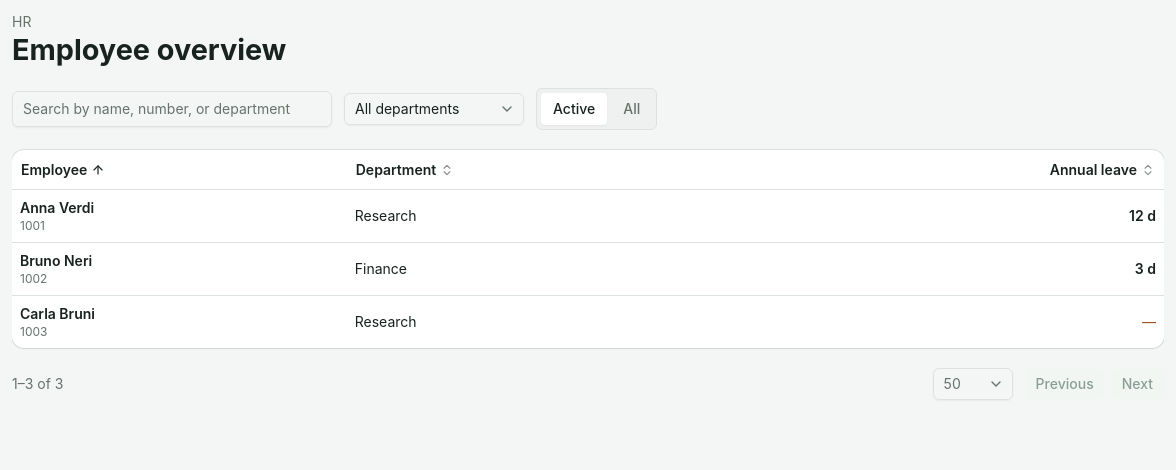
it: EmployeeBalances › lists active employees with the row count, hiding inactive ones by default
Check: the text "Anna Verdi" is shown, box [20, 200, 94, 216]
Check: the text "1–3 of 3" is shown, box [12, 374, 64, 394]
Click the radio button labelled "All" at (632, 108), box [623, 100, 640, 117]
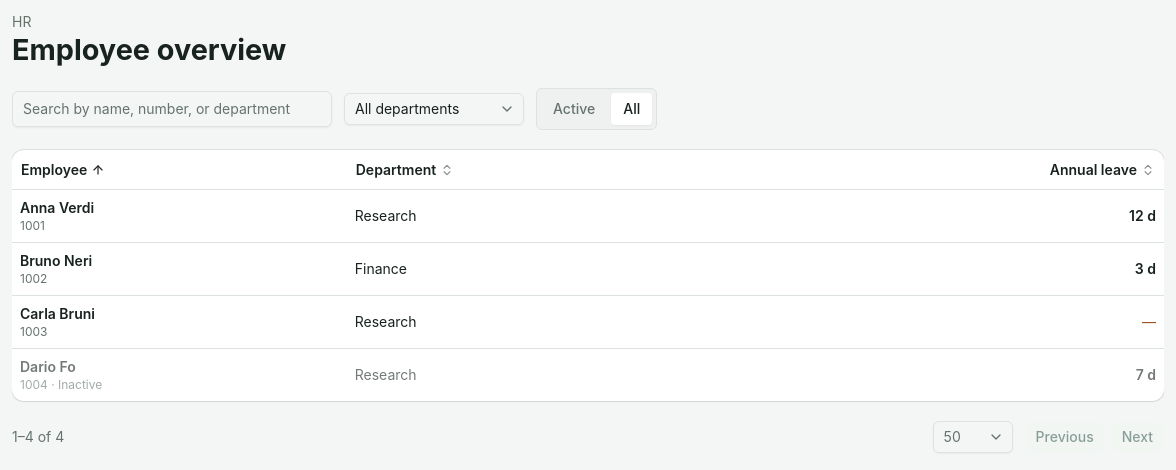
Check: the text "1–4 of 4" is shown, box [12, 428, 64, 448]
